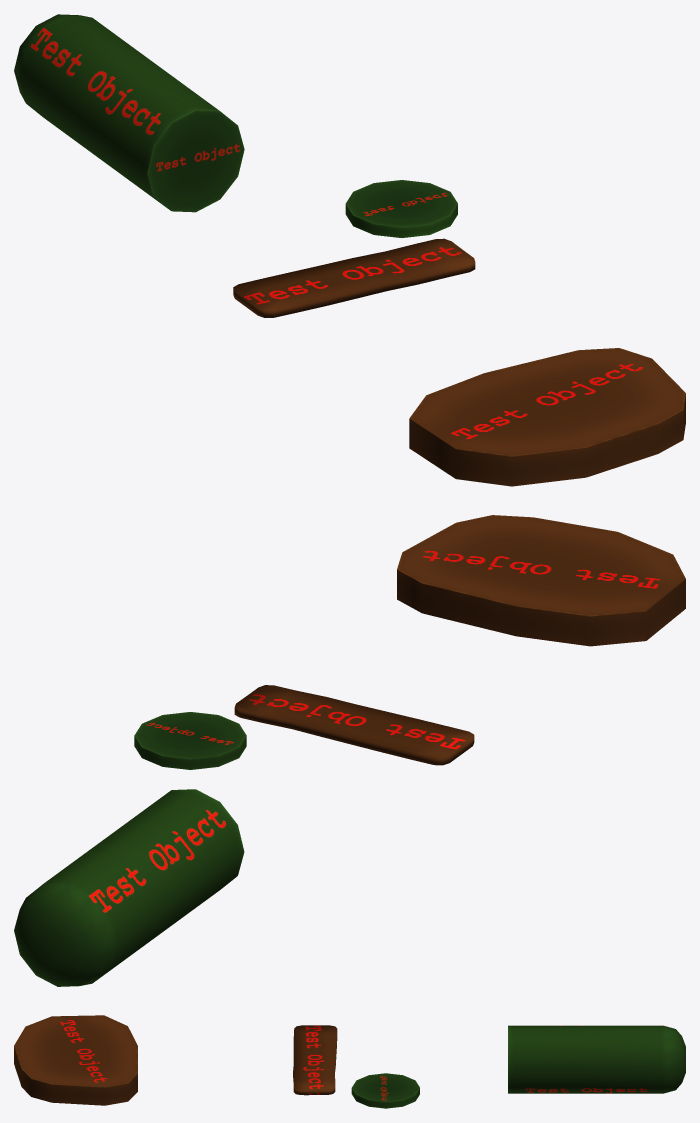
Rendered from Master prefabs.fbx.
3 renders of one model, top to bottom at view 1: azimuth 30°, elevation 25°; view 2: azimuth 150°, elevation 25°; view 3: azimuth 270°, elevation 25°, orthographic. The views are drawn at different scales.
Visible parts, largest first — view 1: CookableFood_Master, Sliceable_Master, Deform_Master, Slice; view 2: CookableFood_Master, Sliceable_Master, Deform_Master, Slice; view 3: Sliceable_Master, CookableFood_Master, Deform_Master, Slice.
Part boxes in pixels (left/top/right/bottom): CookableFood_Master: left=409, top=348, right=685, bottom=486; Sliceable_Master: left=14, top=14, right=244, bottom=212; Deform_Master: left=233, top=238, right=475, bottom=317; Slice: left=345, top=180, right=457, bottom=237; CookableFood_Master: left=397, top=515, right=685, bottom=646; Sliceable_Master: left=14, top=789, right=244, bottom=986; Deform_Master: left=234, top=685, right=474, bottom=765; Slice: left=134, top=712, right=246, bottom=769; Sliceable_Master: left=508, top=1025, right=685, bottom=1093; CookableFood_Master: left=14, top=1015, right=137, bottom=1105; Deform_Master: left=293, top=1025, right=337, bottom=1095; Slice: left=351, top=1073, right=419, bottom=1108.
Bounding box in the file's own units: 21.57 × 7.69 × 75.64.
